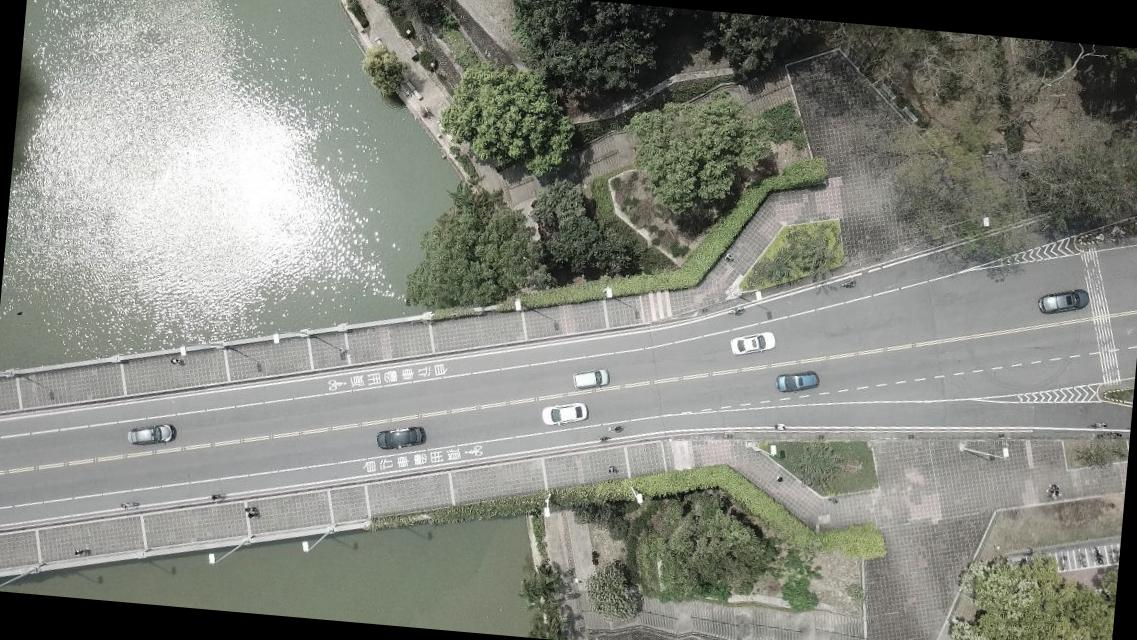vehicle: (1036, 286, 1090, 318), (374, 423, 426, 455), (728, 328, 776, 360), (540, 399, 588, 430), (126, 420, 173, 449), (774, 369, 820, 396), (571, 367, 610, 392)
